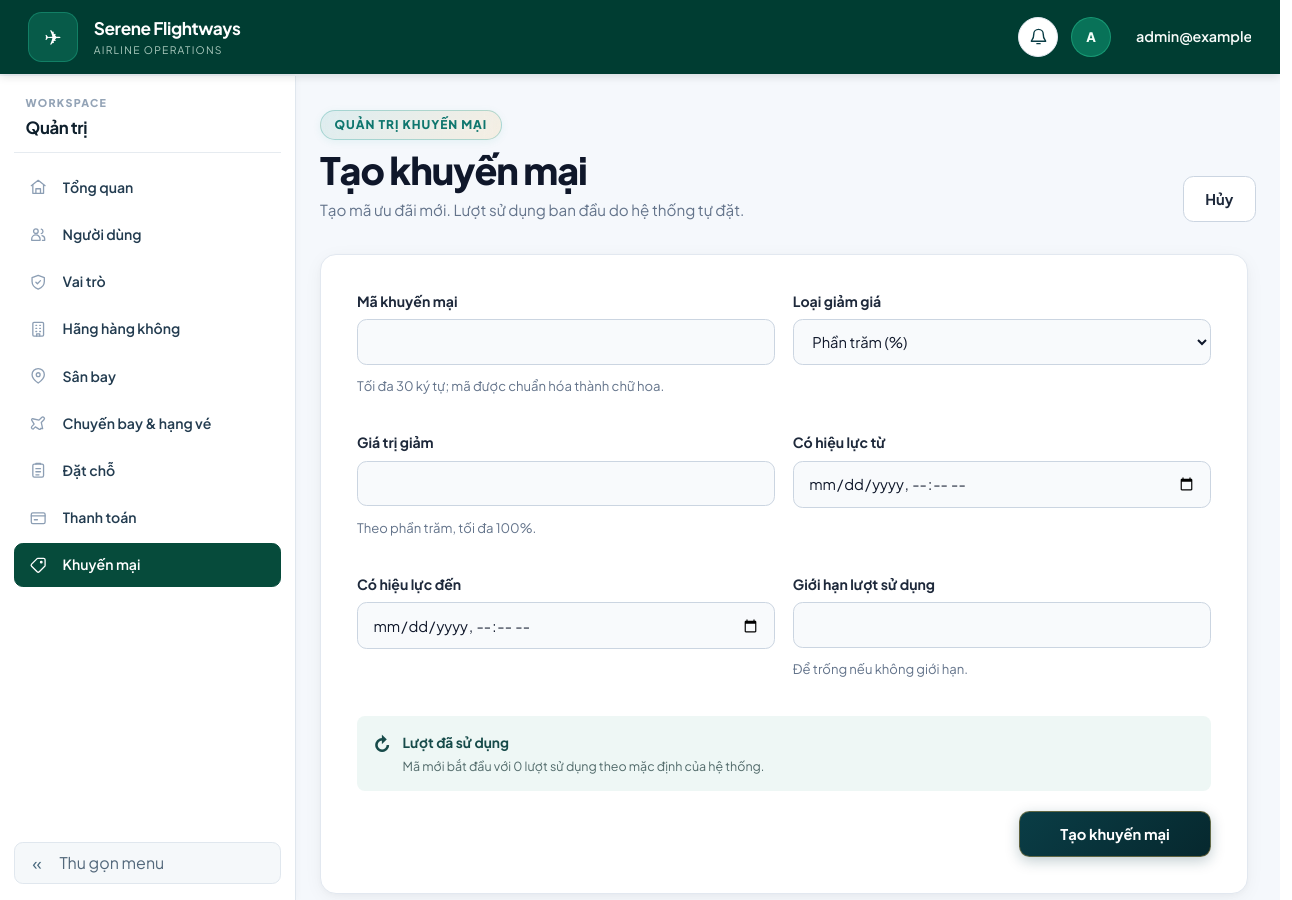
Test: Promotion administration › validates percentage, date order, and optional max uses before POST
Expected: the heading "Tạo khuyến mại" is shown, [320,146,587,193]
In the field labelled "Mã khuyến mại": (566, 342) [357,319,775,365], type "BIGDISCOUNT"
Select "Phần trăm (%)" in the dropdown labelled "Loại giảm giá": (1002, 342) [793,319,1211,365]
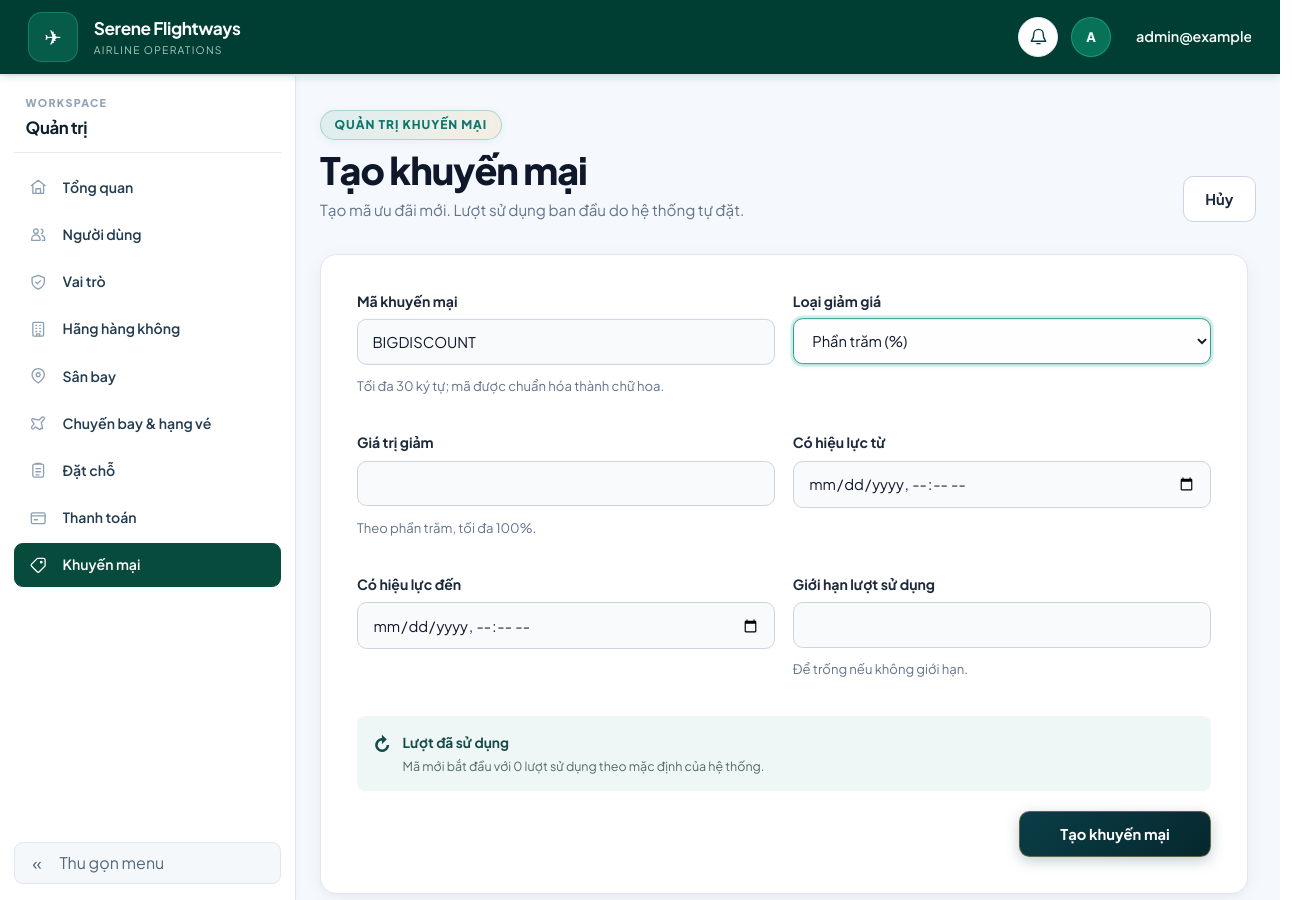
In the number field labelled "Giá trị giảm": (566, 484) [357,461,775,506], type "101"
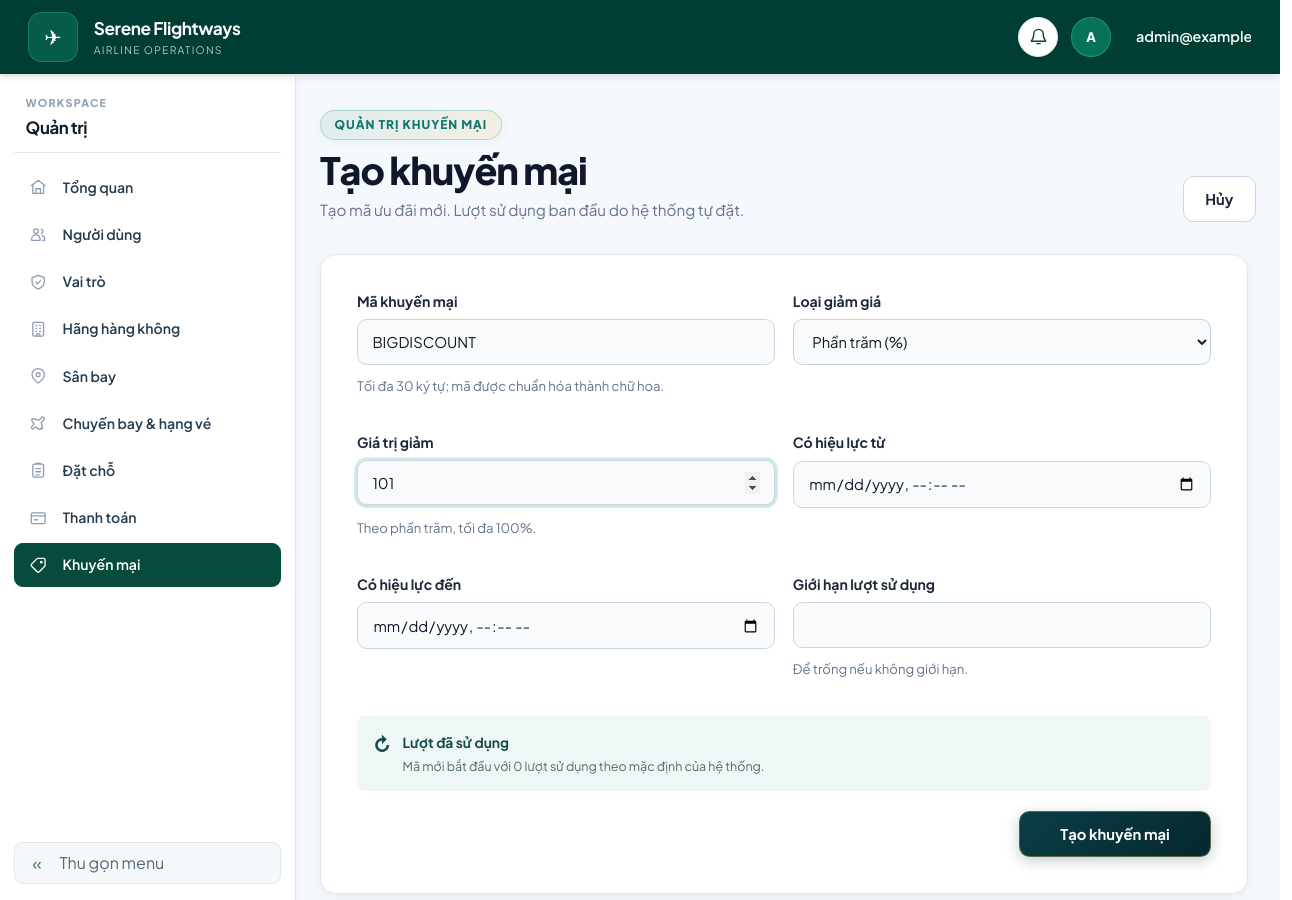
In the field labelled "Có hiệu lực từ": (1002, 484) [793,461,1211,508], type "2026-10-30T00:00"
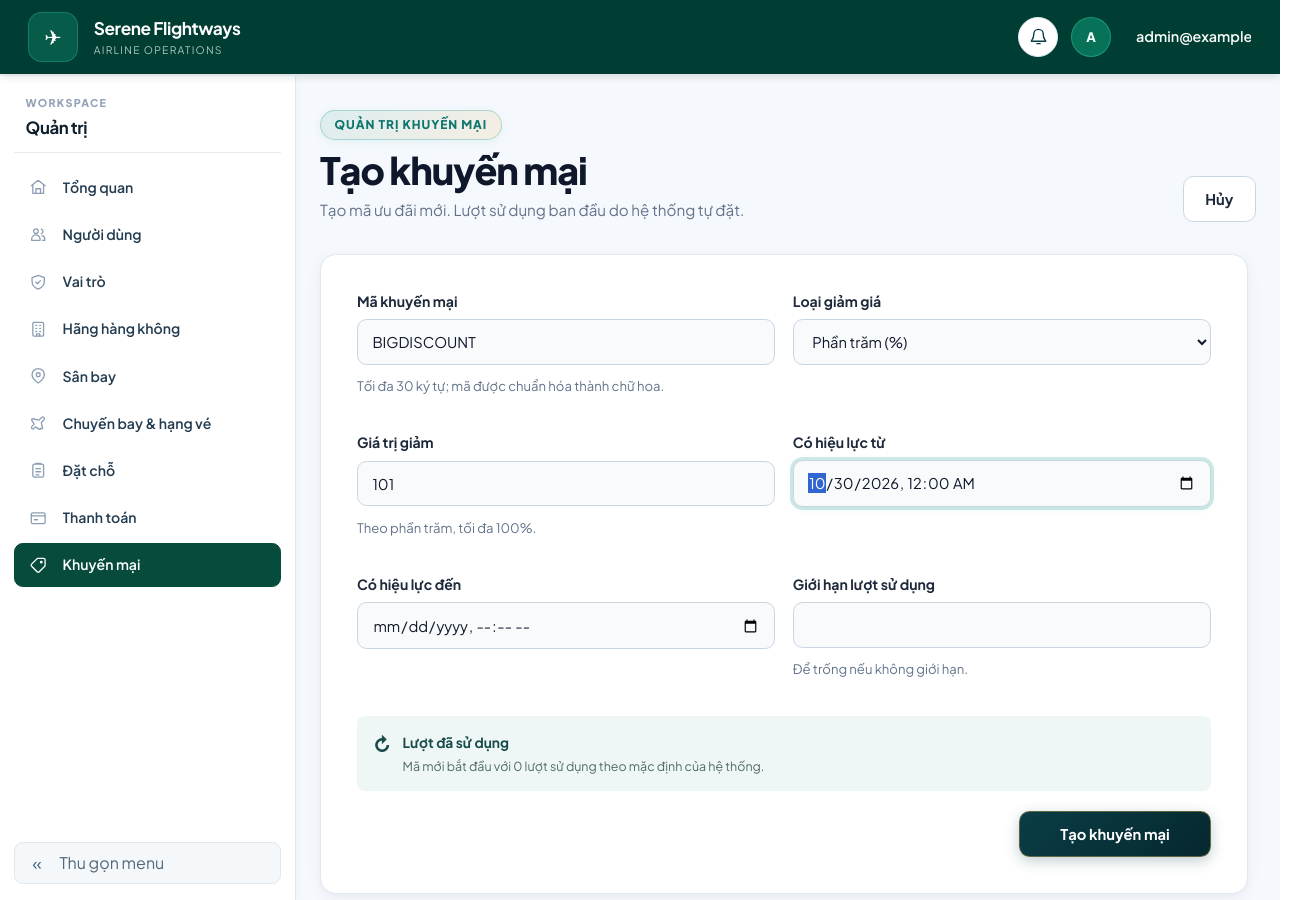
In the field labelled "Có hiệu lực đến": (566, 626) [357,602,775,649], type "2026-10-10T00:00"
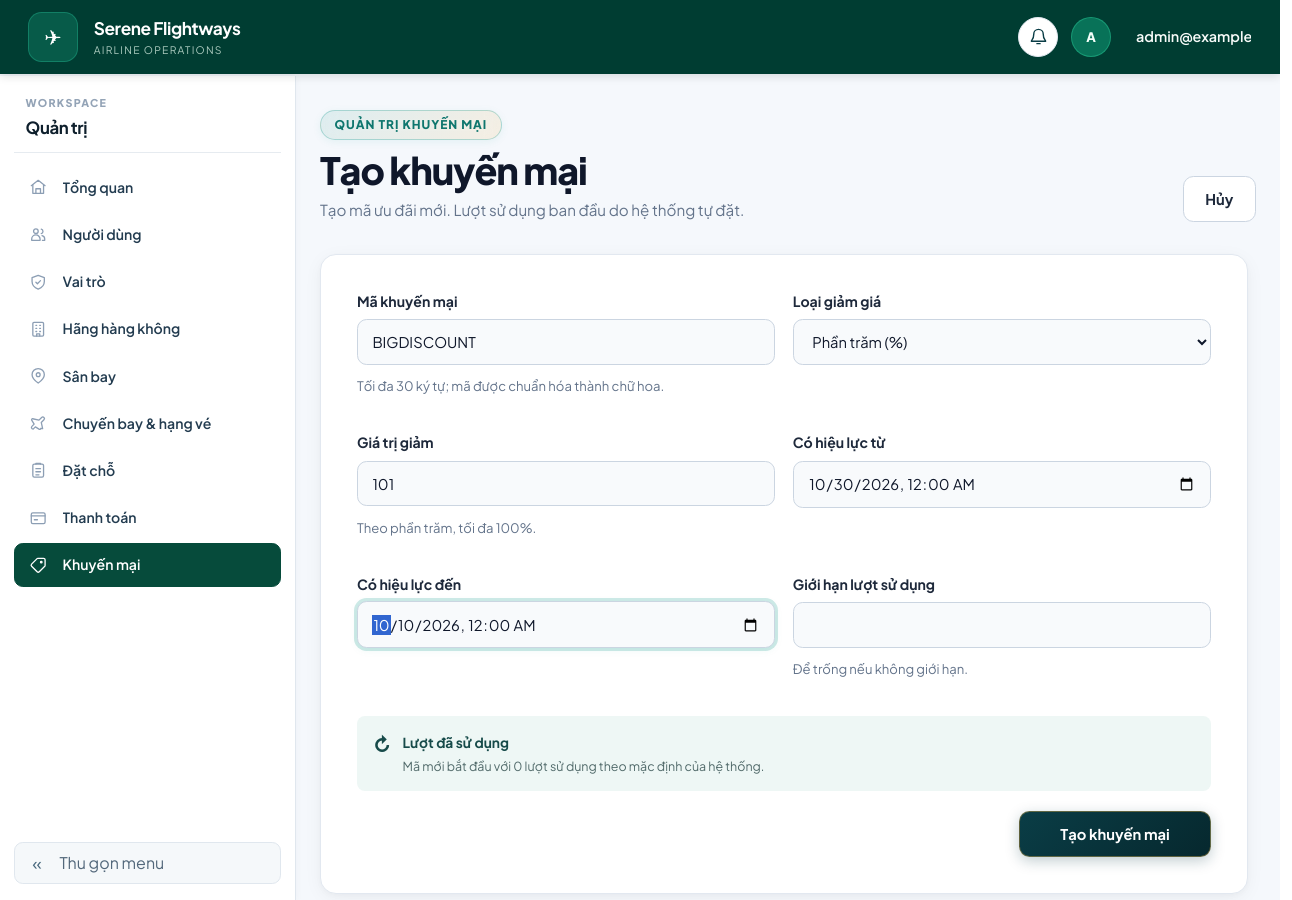
In the number field labelled "Giới hạn lượt sử dụng": (1002, 625) [793,602,1211,648], type "1.5"
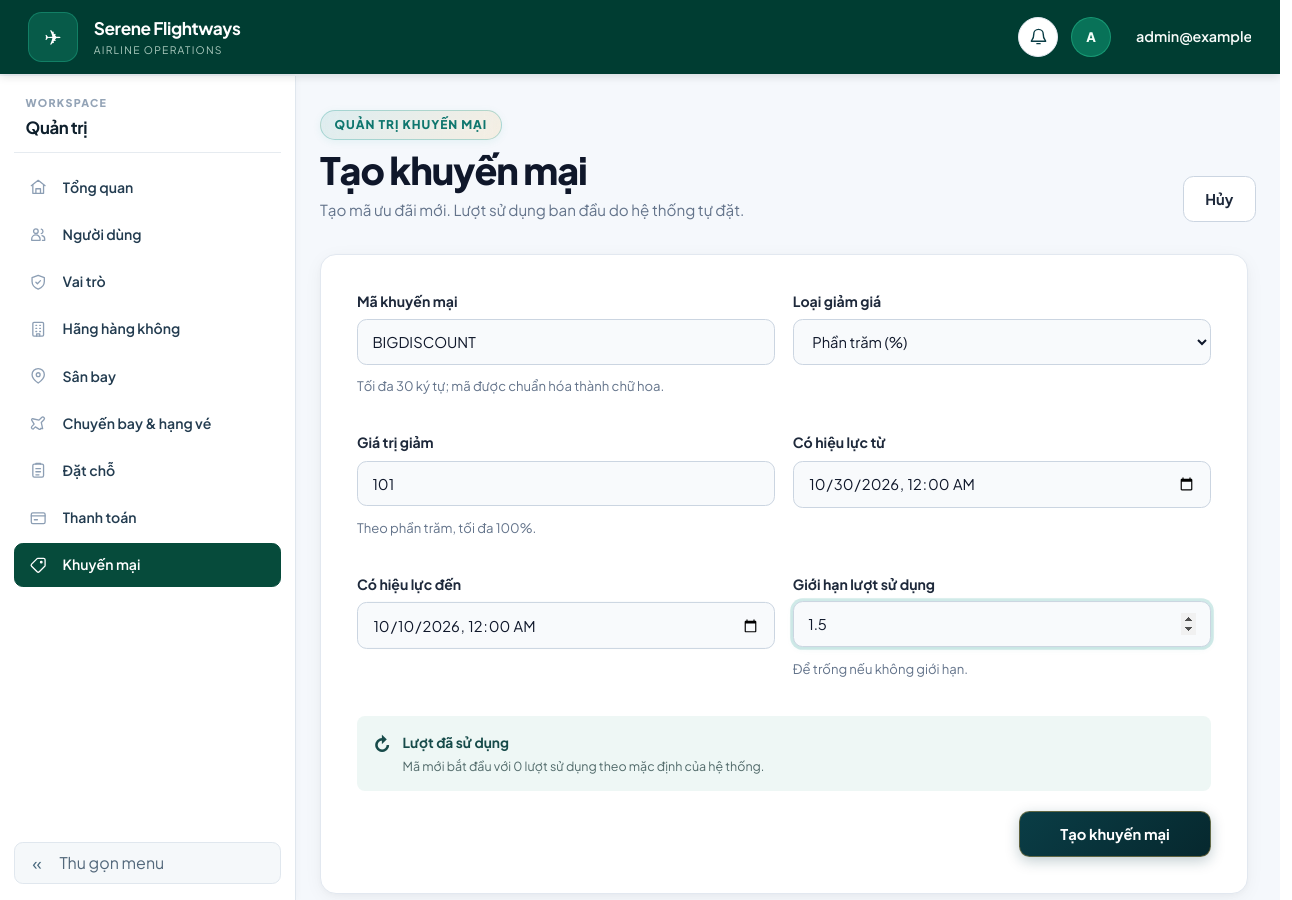
Click the button "Tạo khuyến mại": (1115, 834) [1019,811,1211,857]
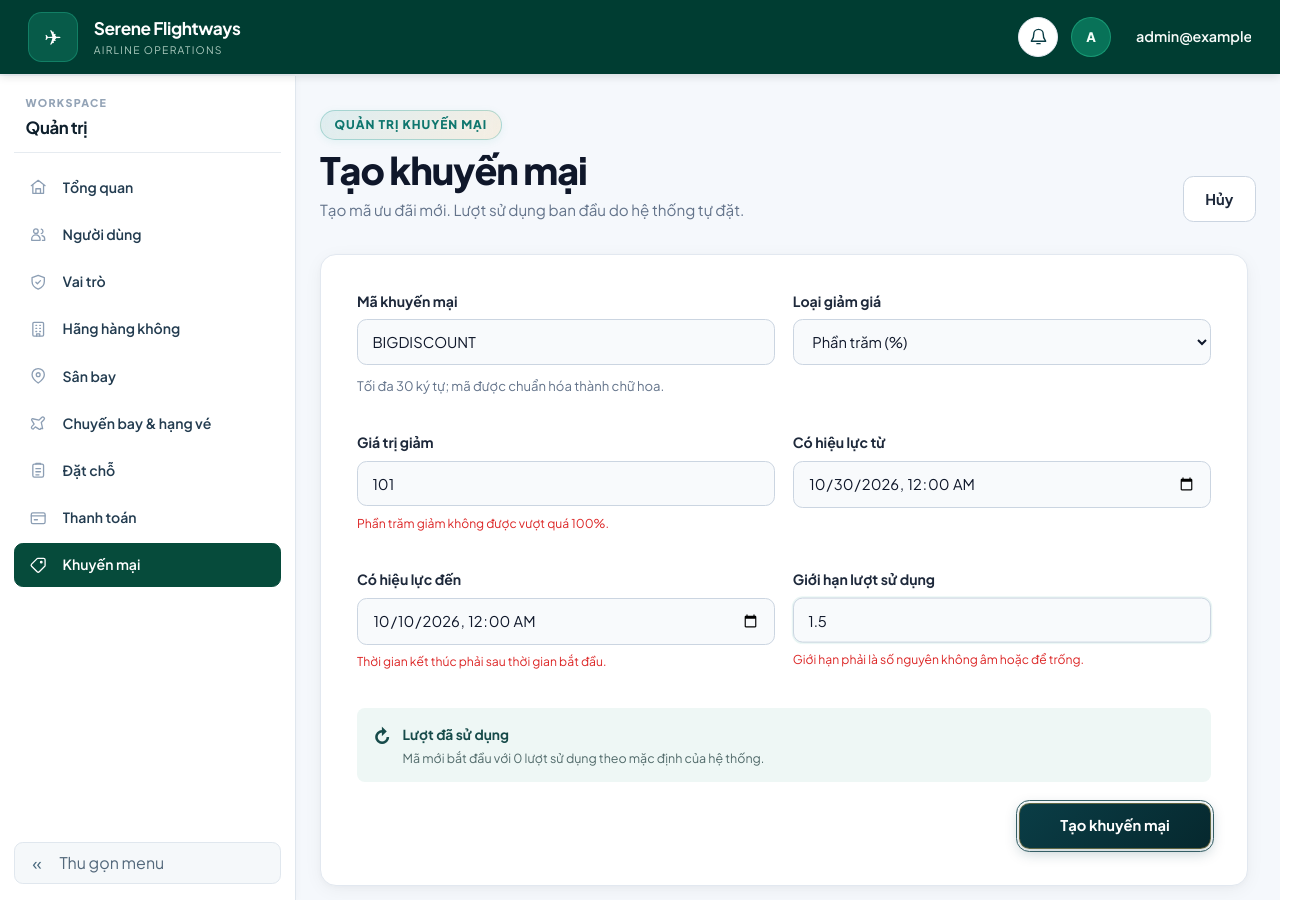
Expected: the text "Phần trăm giảm không được vượt quá 100%." is shown, [357,515,609,531]
Expected: the text "Thời gian kết thúc phải sau thời gian bắt đầu." is shown, [357,653,606,669]
Expected: the text "Giới hạn phải là số nguyên không âm hoặc để trống." is shown, [793,652,1084,668]
